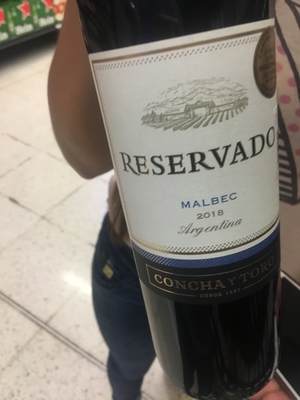reservado malbec: (90, 15, 300, 368)
